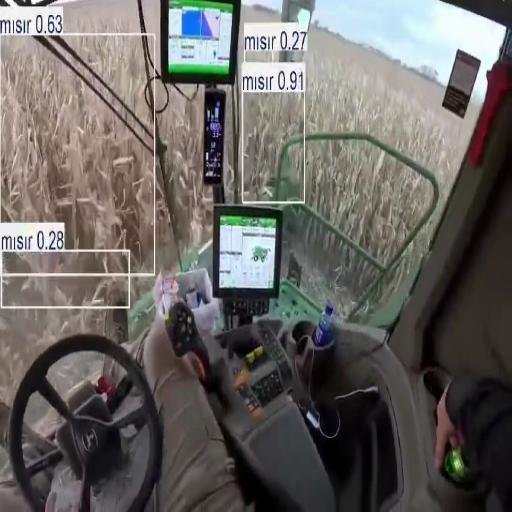misir: (2, 42, 152, 257), (306, 30, 479, 202), (308, 144, 430, 260), (160, 93, 209, 244), (68, 37, 148, 115), (244, 94, 301, 182)
